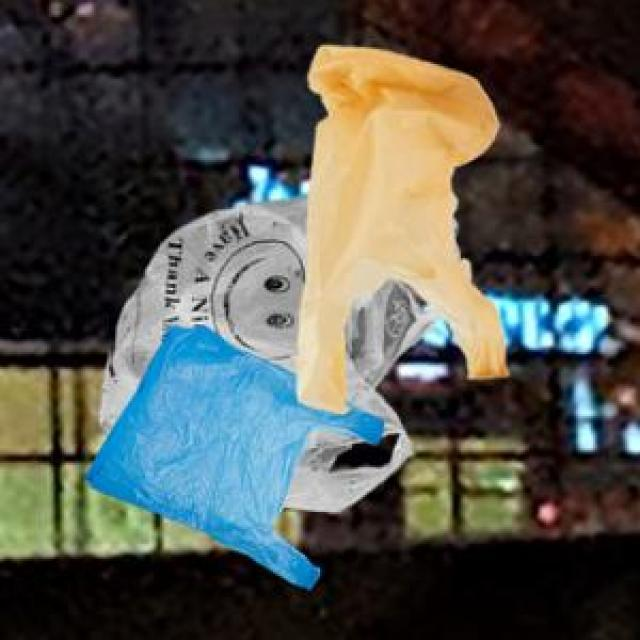waste: (89, 45, 508, 588)
